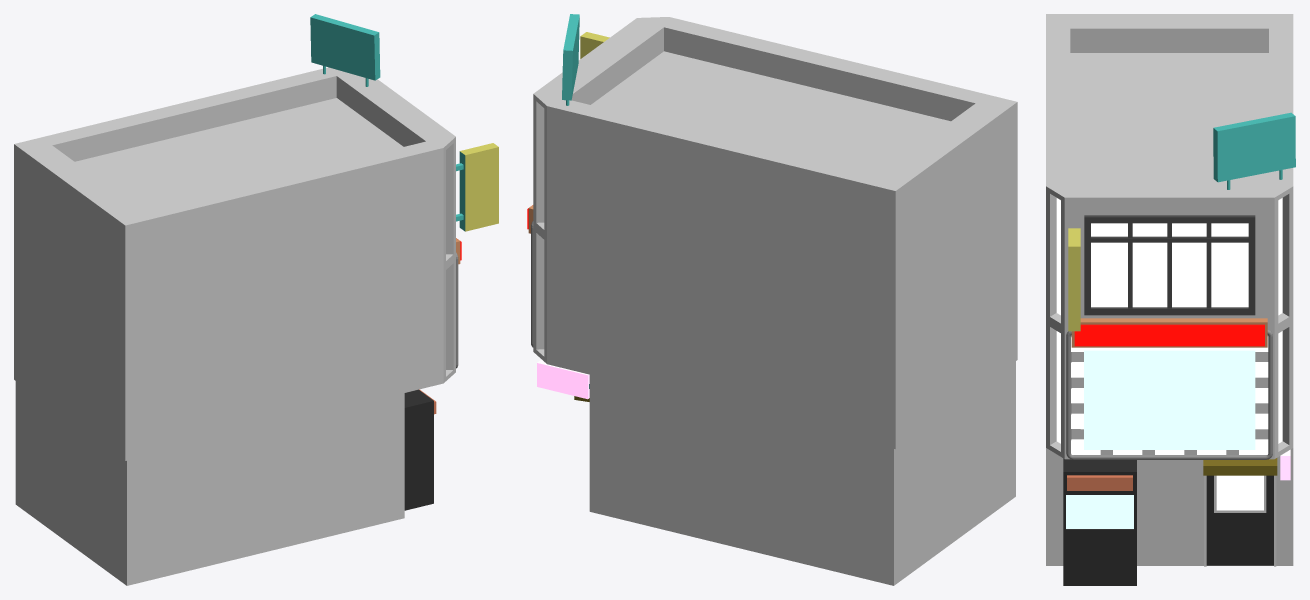
The picture shows the model from 3 angles, left to right: view 1: azimuth 30°, elevation 25°; view 2: azimuth 150°, elevation 25°; view 3: azimuth 270°, elevation 25°; orthographic projection. The views are drawn at different scales.
Parts seen in each view (by area): view 1: 平面.003, 平面.002, 平面, 柱体, 立方体, 平面.004; view 2: 平面.003, 平面.002, 平面, 平面.005, 柱体; view 3: 平面.003, 平面, 平面.001, 立方体, 平面.002, 平面.006, 柱体, 平面.007, 平面.004.
Part boxes in pixels (x1,y1,x2,y2): 平面.003: (14, 67, 455, 345); 平面.002: (14, 257, 455, 460); 平面: (15, 381, 404, 585); 柱体: (310, 14, 380, 86); 立方体: (404, 389, 436, 510); 平面.004: (456, 143, 498, 231); 平面.003: (533, 17, 1017, 322); 平面.002: (533, 225, 1017, 448); 平面: (574, 361, 1015, 585); 平面.005: (537, 359, 589, 399); 柱体: (562, 14, 579, 105); 平面.003: (1046, 14, 1293, 330); 平面: (1046, 448, 1293, 566); 平面.001: (1084, 347, 1255, 449); 立方体: (1063, 458, 1136, 585); 平面.002: (1046, 319, 1293, 459); 平面.006: (1071, 318, 1267, 347); 柱体: (1213, 112, 1295, 189); 平面.007: (1066, 329, 1272, 459); 平面.004: (1068, 228, 1080, 331).
Bounding box in the file's own units: 398 × 413 × 202.
